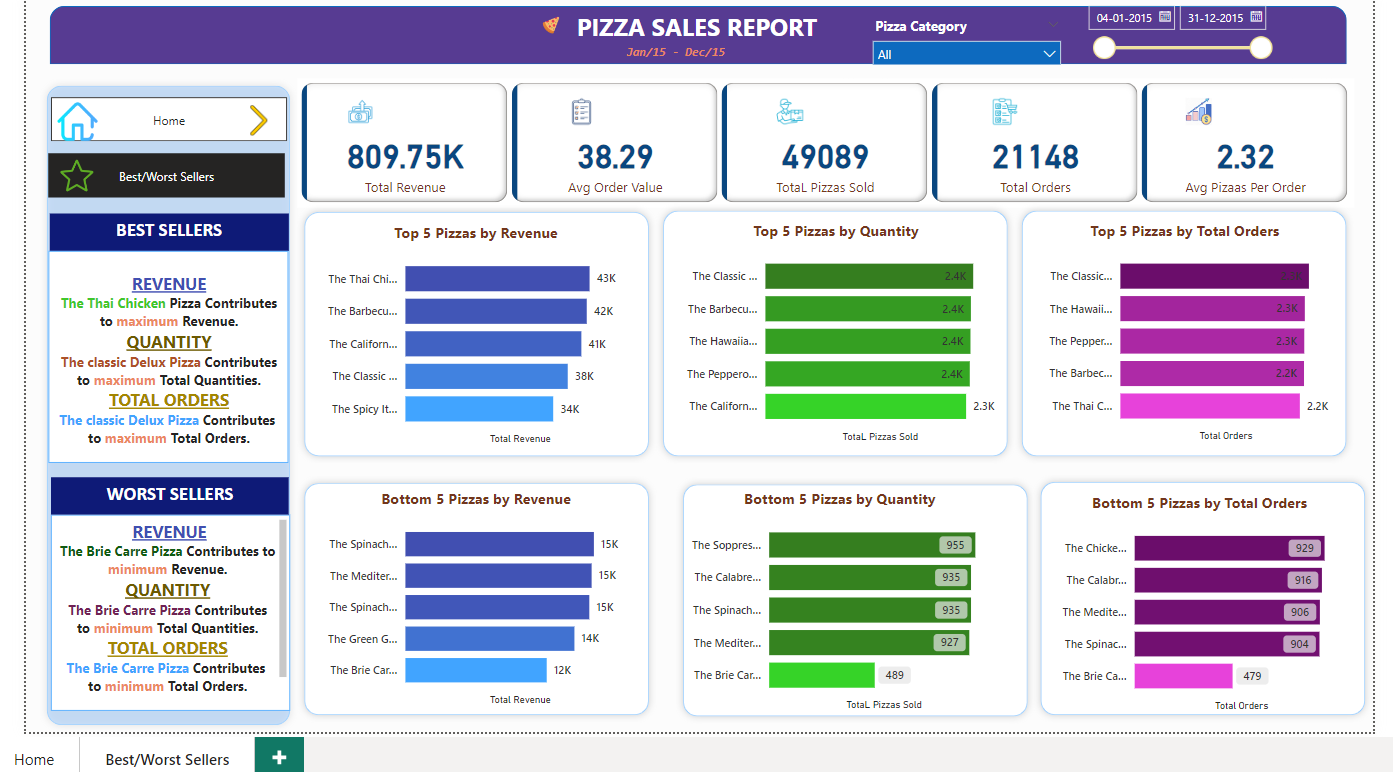

What the dashboard file says about the page in this screenshot:
{"tool":"powerbi","page":{"name":"Best/Worst Sellers","canvas":[1500,820],"ordinal":1},"visuals":[{"type":"shape","box":[15.3,91.9,286.9,728.4],"z":0},{"type":"cardVisual","fields":{"Data":["pizza_sales.Total Revenue","pizza_sales.Avg Order Value","pizza_sales.TotaL Pizzas Sold","pizza_sales.Total Orders","pizza_sales.Avg Pizaas Per Order"]},"box":[302.5,91.2,1177.5,143.8],"z":1000},{"type":"shape","box":[26.2,11.2,1445,65],"z":2000},{"type":"textbox","box":[605,11.2,286.2,48.8],"z":3000},{"type":"textbox","box":[657.5,47.5,132.5,28.8],"z":4000},{"type":"image","box":[563.8,18.8,41.2,28.8],"z":5000},{"type":"shape","box":[302.2,232.6,399.7,288.3],"z":6000},{"type":"textbox","box":[26.5,242.3,266,41.8],"z":7000},{"type":"textbox","box":[25.7,284.6,266.9,236.4],"z":8000},{"type":"textbox","box":[27.5,578.2,266.5,218],"z":9000},{"type":"textbox","box":[27.5,536.2,264.9,42],"z":10000},{"type":"slicer","fields":{"Values":["pizza_sales.pizza_category"]},"box":[933.1,18.1,229.8,58.5],"z":11000},{"type":"slicer","fields":{"Values":["pizza_sales.order_date"]},"box":[1171.2,0,225.6,79.4],"z":12000},{"type":"shape","box":[701.9,231.2,399.7,289.7],"z":13000},{"type":"shape","box":[1101.6,231.2,377.4,289.7],"z":14000},{"type":"shape","box":[302.2,534.8,399.7,274.4],"z":15000},{"type":"shape","box":[724.2,536.2,399.7,274.4],"z":16000},{"type":"shape","box":[1122.5,533.4,377.4,275.7],"z":17000},{"type":"barChart","title":"Top 5 Pizzas by Revenue","fields":{"Category":["pizza_sales.pizza_name"],"Y":["pizza_sales.Total Revenue"]},"box":[318.4,252.5,365,252.5],"z":18000},{"type":"barChart","title":"Bottom 5 Pizzas by Revenue","fields":{"Category":["pizza_sales.pizza_name"],"Y":["pizza_sales.Total Revenue"]},"box":[318.4,548.4,365,246],"z":19000},{"type":"barChart","title":"Top 5 Pizzas by Quantity","fields":{"Category":["pizza_sales.pizza_name"],"Y":["pizza_sales.TotaL Pizzas Sold"]},"box":[720.4,249.3,365,252.5],"z":20000},{"type":"barChart","title":"Bottom 5 Pizzas by Quantity","fields":{"Category":["pizza_sales.pizza_name"],"Y":["pizza_sales.TotaL Pizzas Sold"]},"box":[723.6,548.4,365,252.5],"z":21000},{"type":"barChart","title":"Top 5 Pizzas by Total Orders","fields":{"Category":["pizza_sales.pizza_name"],"Y":["pizza_sales.Total Orders"]},"box":[1122.4,248.7,337.5,251.9],"z":22000},{"type":"barChart","title":"Bottom 5 Pizzas by Total Orders","fields":{"Category":["pizza_sales.pizza_name"],"Y":["pizza_sales.Total Orders"]},"box":[1137,552.3,342.4,248.7],"z":23000},{"type":"pageNavigator","box":[25.7,175.3,263.7,49.9],"z":24000},{"type":"pageNavigator","box":[27.3,112.6,263.7,49.9],"z":25000},{"type":"image","box":[224.2,117,69.6,43.2],"z":26000},{"type":"image","box":[27.3,112.6,59.5,54.7],"z":27000},{"type":"image","box":[33.8,176.9,46.6,46.6],"z":28000}]}

Visuals, with their boxes on the page's 1500x820 design canvas (x1, y1, x2, y2). These are canvas units, not pixel positions in the 1393x772 screenshot, which may show the page scaled, cropped or inside an application window:
shape: (left=15, top=92, right=302, bottom=820)
cardVisual - pizza_sales.Total Revenue x pizza_sales.Avg Order Value: (left=302, top=91, right=1480, bottom=235)
shape: (left=26, top=11, right=1471, bottom=76)
textbox: (left=605, top=11, right=891, bottom=60)
textbox: (left=658, top=48, right=790, bottom=76)
image: (left=564, top=19, right=605, bottom=48)
shape: (left=302, top=233, right=702, bottom=521)
textbox: (left=26, top=242, right=292, bottom=284)
textbox: (left=26, top=285, right=293, bottom=521)
textbox: (left=28, top=578, right=294, bottom=796)
textbox: (left=28, top=536, right=292, bottom=578)
slicer - pizza_sales.pizza_category: (left=933, top=18, right=1163, bottom=77)
slicer - pizza_sales.order_date: (left=1171, top=0, right=1397, bottom=79)
shape: (left=702, top=231, right=1102, bottom=521)
shape: (left=1102, top=231, right=1479, bottom=521)
shape: (left=302, top=535, right=702, bottom=809)
shape: (left=724, top=536, right=1124, bottom=811)
shape: (left=1122, top=533, right=1500, bottom=809)
"Top 5 Pizzas by Revenue" barChart: (left=318, top=252, right=683, bottom=505)
"Bottom 5 Pizzas by Revenue" barChart: (left=318, top=548, right=683, bottom=794)
"Top 5 Pizzas by Quantity" barChart: (left=720, top=249, right=1085, bottom=502)
"Bottom 5 Pizzas by Quantity" barChart: (left=724, top=548, right=1089, bottom=801)
"Top 5 Pizzas by Total Orders" barChart: (left=1122, top=249, right=1460, bottom=501)
"Bottom 5 Pizzas by Total Orders" barChart: (left=1137, top=552, right=1479, bottom=801)
pageNavigator: (left=26, top=175, right=289, bottom=225)
pageNavigator: (left=27, top=113, right=291, bottom=162)
image: (left=224, top=117, right=294, bottom=160)
image: (left=27, top=113, right=87, bottom=167)
image: (left=34, top=177, right=80, bottom=224)
